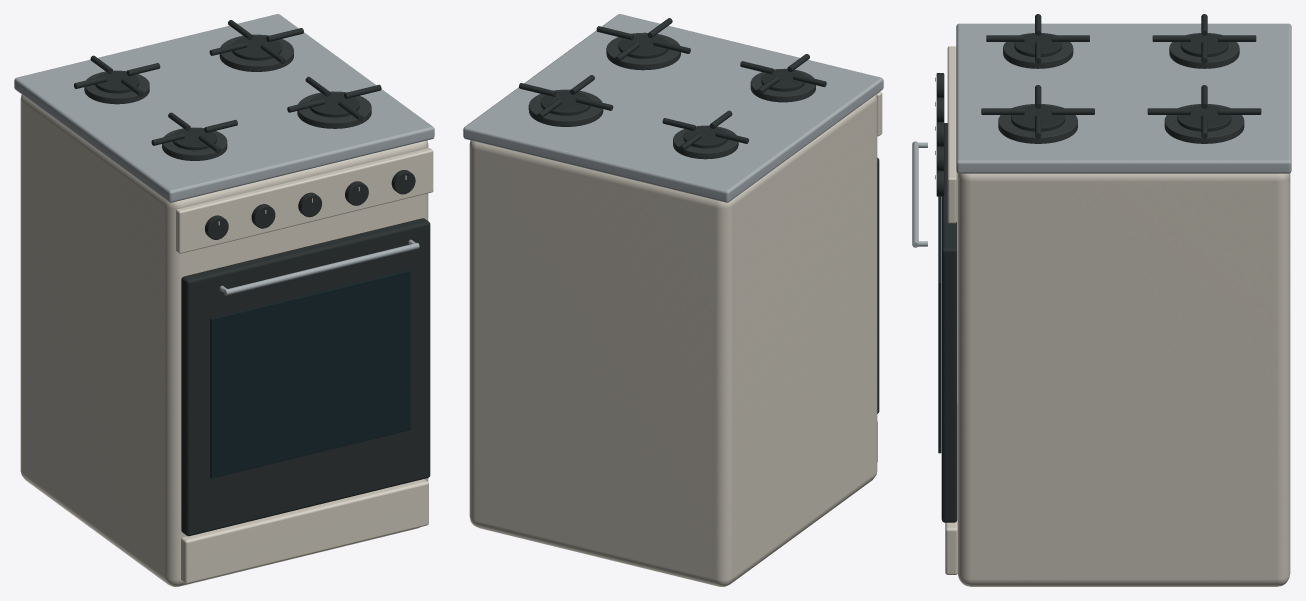
3 views of the same model, side by side, from view 1: azimuth 30°, elevation 25°; view 2: azimuth 150°, elevation 25°; view 3: azimuth 270°, elevation 25° (orthographic). The views are drawn at different scales.
Parts seen in each view (by area): view 1: Ivory range cabinet, Range upper steel deck, Drop oven door, Oven viewing window, Oven lower drawer, Range control fascia, Oven broad door pull | grip, Burner base.003, Burner base.002, Burner base, Burner base.001, Burner cap.002 (+3 smaller); view 2: Ivory range cabinet, Range upper steel deck, Burner base.002, Burner base.003, Burner base, Burner base.001, Burner cap.002, Burner cap.003, Drop oven door, Burner cap.001, Burner cap; view 3: Ivory range cabinet, Range upper steel deck, Drop oven door, Range control fascia, Burner base.003, Burner base.002, Burner base.001, Burner base, Oven viewing window, Burner cap.003, Burner cap.002, Oven lower drawer (+3 smaller).
Boxes of the visible parts, left/top/right/bottom form: Ivory range cabinet: left=20, top=94, right=428, bottom=586; Range upper steel deck: left=14, top=14, right=434, bottom=202; Drop oven door: left=181, top=218, right=430, bottom=536; Oven viewing window: left=210, top=270, right=410, bottom=478; Oven lower drawer: left=181, top=479, right=428, bottom=583; Range control fascia: left=176, top=148, right=433, bottom=253; Oven broad door pull | grip: left=224, top=242, right=419, bottom=295; Burner base.003: left=219, top=34, right=293, bottom=71; Burner base.002: left=297, top=91, right=371, bottom=128; Burner base: left=162, top=127, right=227, bottom=160; Burner base.001: left=84, top=70, right=149, bottom=104; Burner cap.002: left=309, top=93, right=359, bottom=117; Ivory range cabinet: left=469, top=94, right=877, bottom=586; Range upper steel deck: left=463, top=14, right=883, bottom=202; Burner base.002: left=606, top=32, right=680, bottom=70; Burner base.003: left=528, top=89, right=603, bottom=126; Burner base: left=750, top=68, right=815, bottom=102; Burner base.001: left=673, top=125, right=738, bottom=159; Burner cap.002: left=618, top=34, right=668, bottom=58; Burner cap.003: left=540, top=91, right=590, bottom=115; Drop oven door: left=877, top=157, right=879, bottom=413; Burner cap.001: left=683, top=126, right=727, bottom=148; Burner cap: left=761, top=69, right=805, bottom=91; Ivory range cabinet: left=957, top=173, right=1290, bottom=586; Range upper steel deck: left=956, top=23, right=1291, bottom=173; Drop oven door: left=941, top=123, right=957, bottom=522; Range control fascia: left=947, top=46, right=956, bottom=223; Burner base.003: left=1164, top=104, right=1244, bottom=143; Burner base.002: left=998, top=104, right=1077, bottom=143; Burner base.001: left=1169, top=33, right=1239, bottom=68; Burner base: left=1003, top=33, right=1073, bottom=68; Oven viewing window: left=938, top=196, right=941, bottom=453; Burner cap.003: left=1177, top=105, right=1231, bottom=131; Burner cap.002: left=1011, top=105, right=1065, bottom=131; Oven lower drawer: left=945, top=403, right=957, bottom=574.
Size of the model in its own units: 0.609 by 0.931 by 0.7025.
6 materials, 6 textured.
